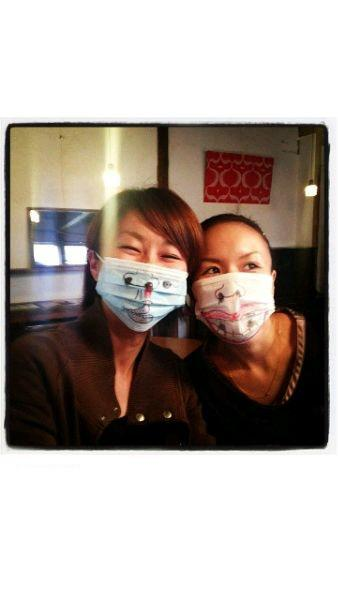OK: (99, 227, 188, 332), (193, 250, 274, 341)
